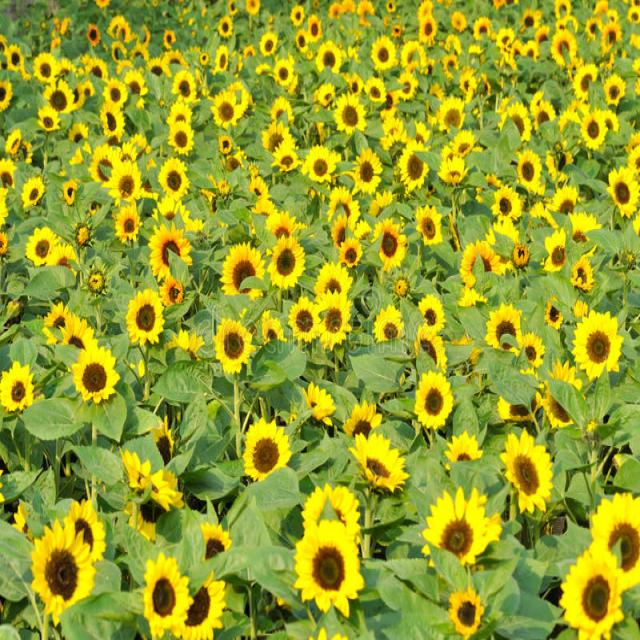sunflower: (289, 512, 375, 622), (414, 478, 498, 574), (22, 524, 106, 616), (560, 534, 622, 640), (501, 430, 558, 517), (133, 556, 194, 635), (567, 303, 622, 385), (344, 424, 408, 494), (235, 412, 295, 483), (120, 284, 173, 352), (214, 241, 272, 303), (306, 292, 354, 358), (405, 364, 452, 431), (71, 346, 124, 405), (455, 238, 506, 298), (264, 230, 306, 289), (214, 320, 258, 374), (369, 217, 407, 270), (604, 163, 640, 217), (408, 199, 443, 253), (364, 303, 404, 349), (286, 296, 319, 348), (110, 163, 146, 207), (489, 176, 520, 227), (22, 218, 59, 260), (501, 100, 533, 148), (301, 140, 335, 183), (333, 99, 367, 142), (514, 142, 544, 190), (421, 289, 450, 337), (83, 138, 112, 185), (312, 36, 342, 81), (431, 95, 463, 136), (207, 93, 243, 129), (100, 96, 126, 144), (394, 144, 424, 184), (165, 116, 196, 152), (544, 228, 570, 270), (114, 207, 142, 246), (42, 74, 76, 106), (168, 67, 198, 103), (262, 120, 292, 155), (160, 152, 182, 194), (373, 31, 395, 73), (585, 103, 605, 149), (260, 27, 283, 62), (106, 70, 128, 106), (20, 177, 42, 210), (39, 106, 60, 138), (270, 56, 292, 86)
